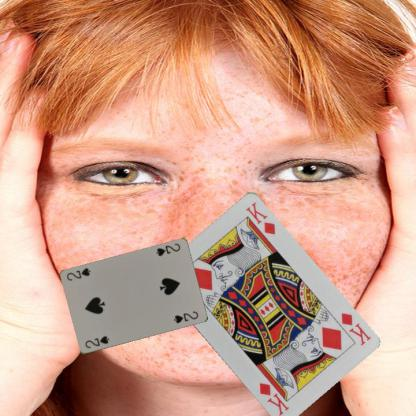2s: (153, 241, 182, 258), (83, 334, 110, 350)
Kd: (338, 310, 372, 347)
